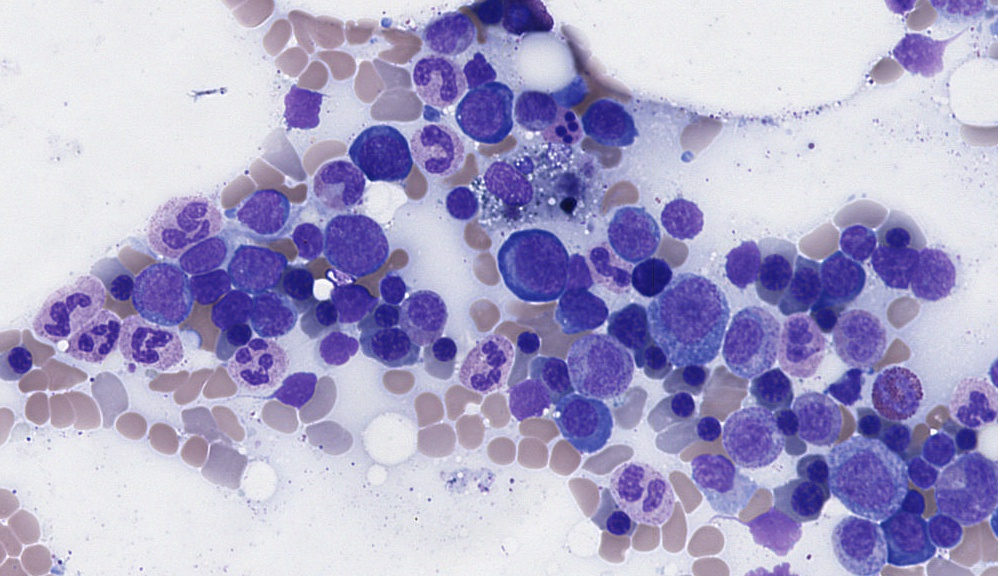objectness: (687, 447, 737, 497), (158, 196, 208, 246), (420, 116, 470, 166), (770, 314, 820, 364), (224, 350, 274, 400), (578, 242, 628, 292), (470, 333, 520, 383), (86, 301, 136, 351), (605, 461, 655, 511), (129, 315, 179, 365), (33, 288, 83, 338), (418, 41, 468, 91), (399, 285, 449, 335), (832, 512, 882, 562), (787, 392, 837, 442), (422, 7, 472, 57), (725, 414, 775, 464), (719, 313, 769, 363), (876, 368, 926, 418), (319, 149, 369, 199), (946, 473, 996, 523), (840, 307, 890, 357), (230, 240, 280, 290), (134, 262, 184, 312), (273, 78, 323, 128), (868, 241, 918, 291), (683, 402, 733, 452), (453, 43, 503, 93), (883, 505, 933, 555), (886, 475, 936, 525), (551, 283, 601, 333), (503, 371, 553, 421), (205, 282, 255, 332), (908, 249, 958, 299), (800, 290, 850, 340), (891, 25, 941, 75), (327, 279, 377, 329), (313, 321, 363, 371), (269, 364, 319, 414), (282, 214, 332, 264), (182, 260, 232, 310), (604, 301, 654, 351), (175, 227, 225, 277), (609, 206, 659, 256), (721, 235, 771, 285), (823, 363, 873, 413), (818, 250, 868, 300), (433, 175, 483, 225), (748, 504, 798, 554), (872, 410, 922, 460), (624, 250, 674, 300), (838, 455, 888, 505), (546, 66, 596, 116), (244, 288, 294, 338), (654, 190, 704, 240), (546, 100, 596, 150), (663, 284, 713, 334), (912, 422, 962, 472), (898, 450, 948, 500), (918, 503, 968, 553), (832, 214, 882, 264), (507, 80, 557, 130), (780, 260, 830, 310), (594, 497, 644, 547), (211, 308, 261, 358), (95, 261, 145, 311), (367, 262, 417, 312), (552, 390, 602, 440), (761, 398, 811, 448), (364, 318, 414, 368), (873, 207, 923, 257), (528, 349, 578, 399), (844, 401, 894, 451), (301, 286, 351, 336), (271, 257, 321, 307), (791, 444, 841, 494), (360, 291, 410, 341), (749, 358, 799, 408), (783, 473, 833, 523), (667, 351, 717, 401), (456, 85, 506, 135), (502, 315, 552, 365), (419, 322, 469, 372), (356, 129, 406, 179), (515, 237, 565, 287), (748, 244, 798, 294), (656, 379, 706, 429), (627, 330, 677, 380), (942, 413, 992, 463), (579, 93, 629, 143), (952, 380, 998, 430), (494, 0, 544, 42), (0, 332, 42, 382)
